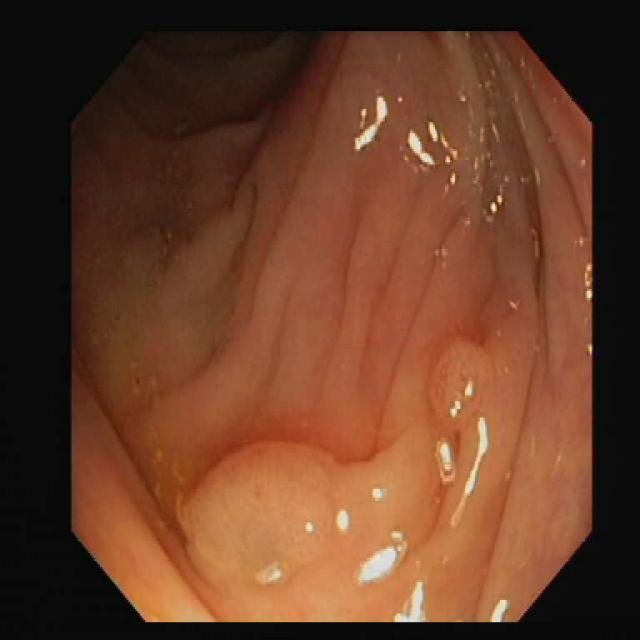tumor: (183, 440, 372, 589), (428, 338, 495, 418)
